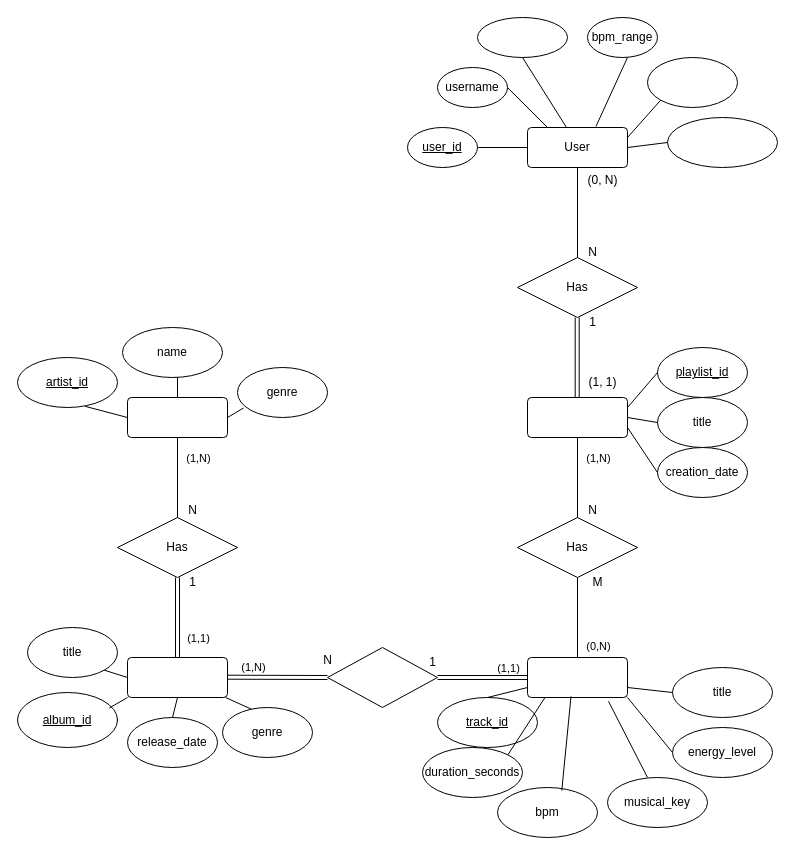
Image size: 795x855. Some labels were removed from this diagram. Each missing label, with the box of its shape:
Album: (126, 656, 228, 698)
Artist: (126, 396, 228, 438)
Belongs: (326, 646, 438, 708)
bpm_range_min: (666, 116, 778, 168)
key_preference: (646, 56, 738, 108)
Playlist: (526, 396, 628, 438)
preferred_genre: (476, 16, 568, 58)
Track: (526, 656, 628, 698)
